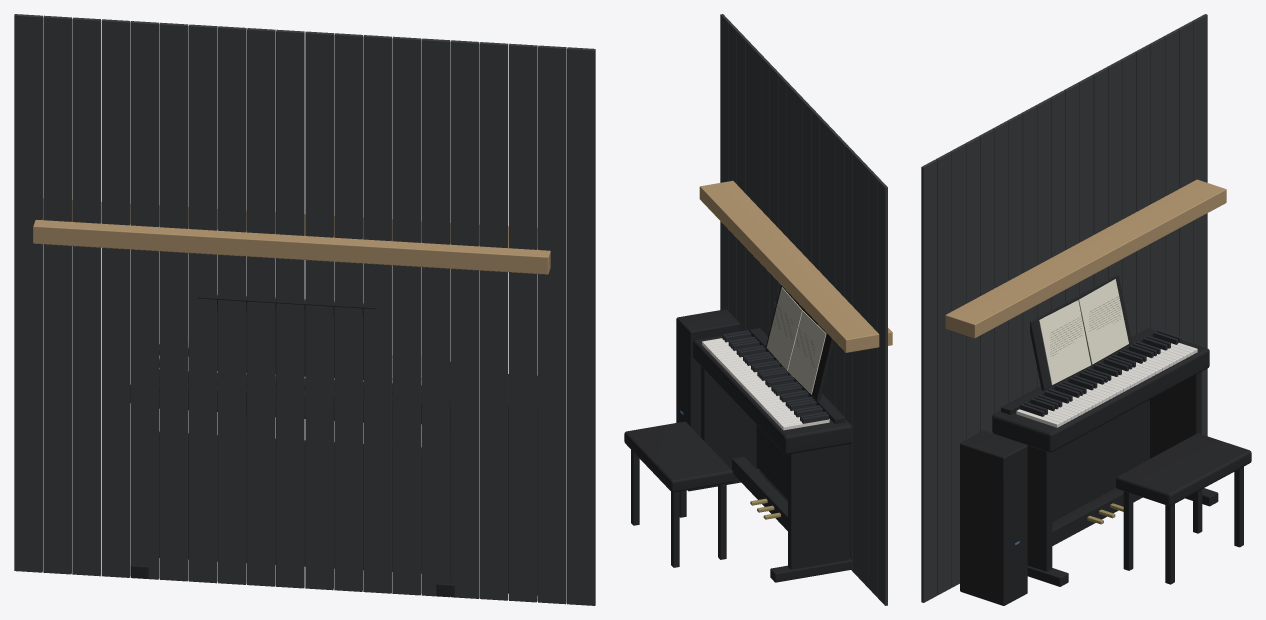
File: model-e3d0bce9ff08.glb
3 renders of one model, left to right at view 1: azimuth 30°, elevation 25°; view 2: azimuth 150°, elevation 25°; view 3: azimuth 270°, elevation 25°, orthographic. The views are drawn at different scales.
Parts seen in each view (by area): view 1: lower-piano-observed / vertical accent panel0, lower-piano-observed / vertical accent panel14, lower-piano-observed / vertical accent panel3, lower-piano-observed / vertical accent panel16, lower-piano-observed / vertical accent panel13, lower-piano-observed / vertical accent panel6, lower-piano-observed / vertical accent panel4, lower-piano-observed / vertical accent panel19, lower-piano-observed / vertical accent panel1, lower-piano-observed / vertical accent panel5, lower-piano-observed / vertical accent panel15, lower-piano-observed / vertical accent panel18 (+11 smaller); view 2: lower-piano-observed / floating lightwood display shelf, lower-piano-observed / cabinet vertical side.001, lower-piano-observed / black bench seat, lower-piano-observed / vertical accent panel19, home-lower-level__keyboard_stand__instrument_body, lower-piano-observed / vertical accent panel18, lower-piano-observed / left dark upright device, lower-piano-observed / vertical accent panel17, lower-piano-observed / cabinet vertical side, lower-piano-observed / vertical accent panel16, lower-piano-observed / vertical accent panel15, lower-piano-observed / vertical accent panel0 (+24 smaller); view 3: lower-piano-observed / left dark upright device, lower-piano-observed / floating lightwood display shelf, lower-piano-observed / vertical accent panel0, lower-piano-observed / piano rear support board, lower-piano-observed / vertical accent panel1, lower-piano-observed / black bench seat, lower-piano-observed / vertical accent panel2, home-lower-level__keyboard_stand__instrument_body, lower-piano-observed / vertical accent panel19, lower-piano-observed / vertical accent panel18, lower-piano-observed / vertical accent panel4, lower-piano-observed / vertical accent panel16 (+24 smaller).
Part boxes in pixels (<box>): lower-piano-observed / vertical accent panel0: <box>567,47,595,605</box>; lower-piano-observed / vertical accent panel14: <box>159,22,188,581</box>; lower-piano-observed / vertical accent panel3: <box>479,42,508,600</box>; lower-piano-observed / vertical accent panel16: <box>101,19,130,577</box>; lower-piano-observed / vertical accent panel13: <box>188,24,217,583</box>; lower-piano-observed / vertical accent panel6: <box>392,36,421,595</box>; lower-piano-observed / vertical accent panel4: <box>450,40,479,598</box>; lower-piano-observed / vertical accent panel19: <box>14,14,42,572</box>; lower-piano-observed / vertical accent panel1: <box>538,45,566,604</box>; lower-piano-observed / vertical accent panel5: <box>421,38,450,597</box>; lower-piano-observed / vertical accent panel15: <box>130,21,159,579</box>; lower-piano-observed / vertical accent panel18: <box>43,15,71,574</box>; lower-piano-observed / floating lightwood display shelf: <box>699,180,892,352</box>; lower-piano-observed / cabinet vertical side.001: <box>788,444,848,569</box>; lower-piano-observed / black bench seat: <box>624,421,733,492</box>; lower-piano-observed / vertical accent panel19: <box>877,179,887,605</box>; home-lower-level__keyboard_stand__instrument_body: <box>693,335,852,454</box>; lower-piano-observed / vertical accent panel18: <box>869,170,879,596</box>; lower-piano-observed / left dark upright device: <box>676,309,740,436</box>; lower-piano-observed / vertical accent panel17: <box>860,161,870,588</box>; lower-piano-observed / cabinet vertical side: <box>701,366,758,469</box>; lower-piano-observed / vertical accent panel16: <box>852,153,862,579</box>; lower-piano-observed / vertical accent panel15: <box>844,144,854,571</box>; lower-piano-observed / vertical accent panel0: <box>720,14,730,310</box>; lower-piano-observed / left dark upright device: <box>960,430,1027,605</box>; lower-piano-observed / floating lightwood display shelf: <box>945,179,1226,338</box>; lower-piano-observed / vertical accent panel0: <box>921,159,937,602</box>; lower-piano-observed / piano rear support board: <box>1052,399,1149,521</box>; lower-piano-observed / vertical accent panel1: <box>936,152,951,595</box>; lower-piano-observed / black bench seat: <box>1116,433,1251,505</box>; lower-piano-observed / vertical accent panel2: <box>950,144,965,587</box>; home-lower-level__keyboard_stand__instrument_body: <box>992,340,1209,452</box>; lower-piano-observed / vertical accent panel19: <box>1191,14,1207,436</box>; lower-piano-observed / vertical accent panel18: <box>1177,21,1193,343</box>; lower-piano-observed / vertical accent panel4: <box>978,129,994,433</box>; lower-piano-observed / vertical accent panel16: <box>1149,37,1164,331</box>.
Size of the model in its own units: 1.69 by 2.19 by 1.5.
